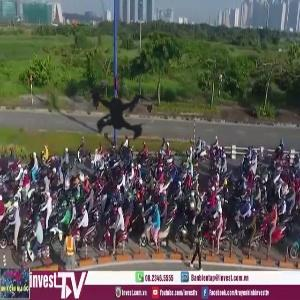drone: (26, 14, 216, 204)
